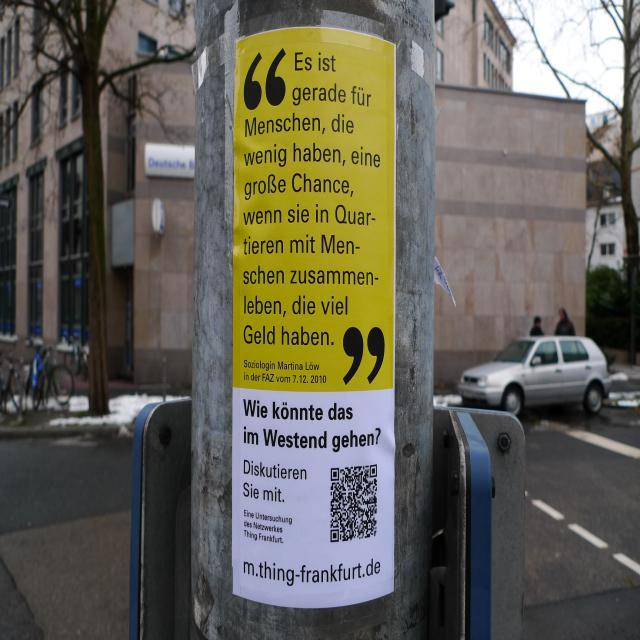qrcode: (331, 465, 378, 543)
